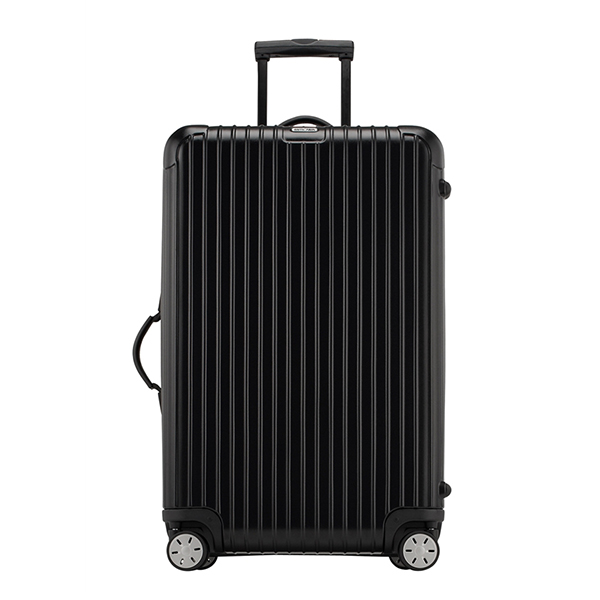suitcase: (129, 37, 453, 574)
